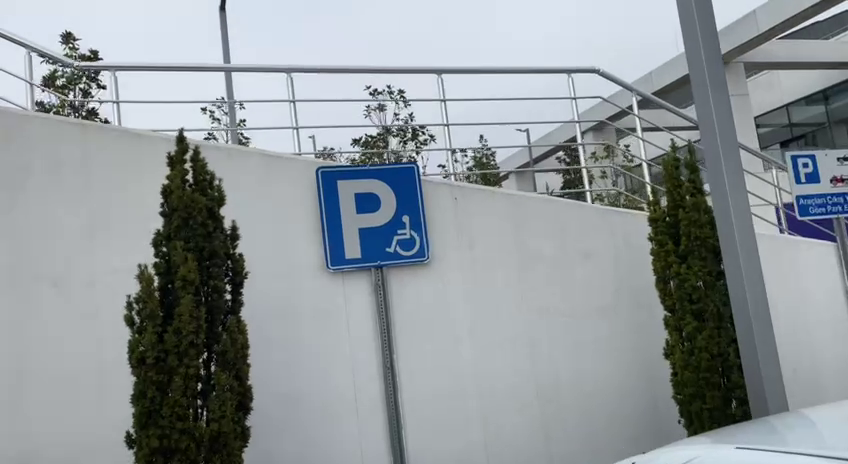parking: (314, 160, 432, 274), (787, 151, 822, 186)
